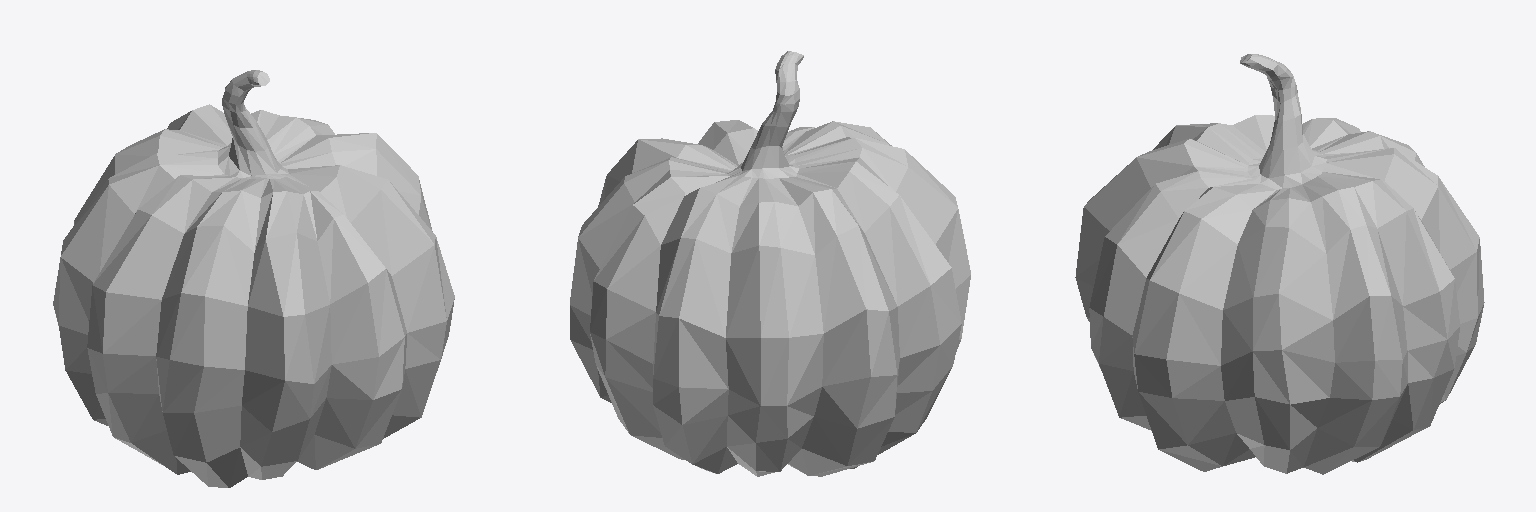
Rendered from Kürbis_LP.obj.
The picture shows the model from 3 angles: view 1: azimuth 30°, elevation 25°; view 2: azimuth 150°, elevation 25°; view 3: azimuth 270°, elevation 25°; orthographic projection.
Visible parts, largest first — view 1: Kürbis_LP; view 2: Kürbis_LP; view 3: Kürbis_LP.
Part boxes in pixels (left/top/right/bottom): Kürbis_LP: left=53, top=70, right=454, bottom=487; Kürbis_LP: left=570, top=51, right=970, bottom=476; Kürbis_LP: left=1075, top=54, right=1484, bottom=474.
Bounding box in the file's own units: 2.46 × 2.66 × 2.51.